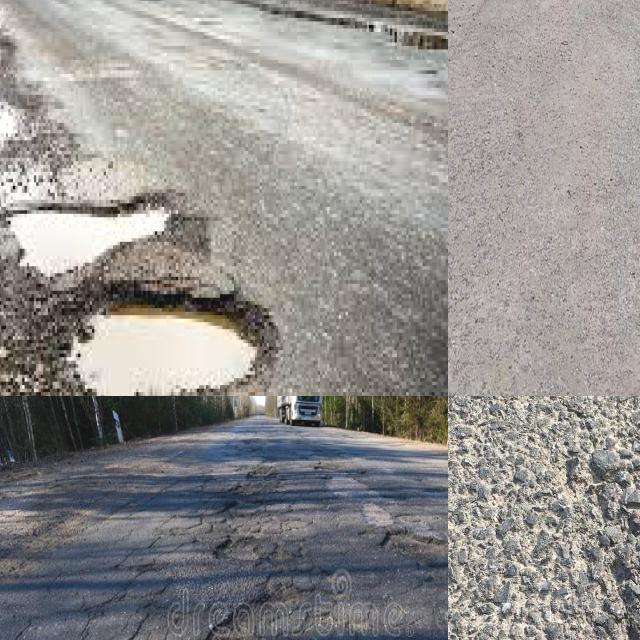Pothole: (69, 308, 260, 396), (8, 210, 171, 277)
